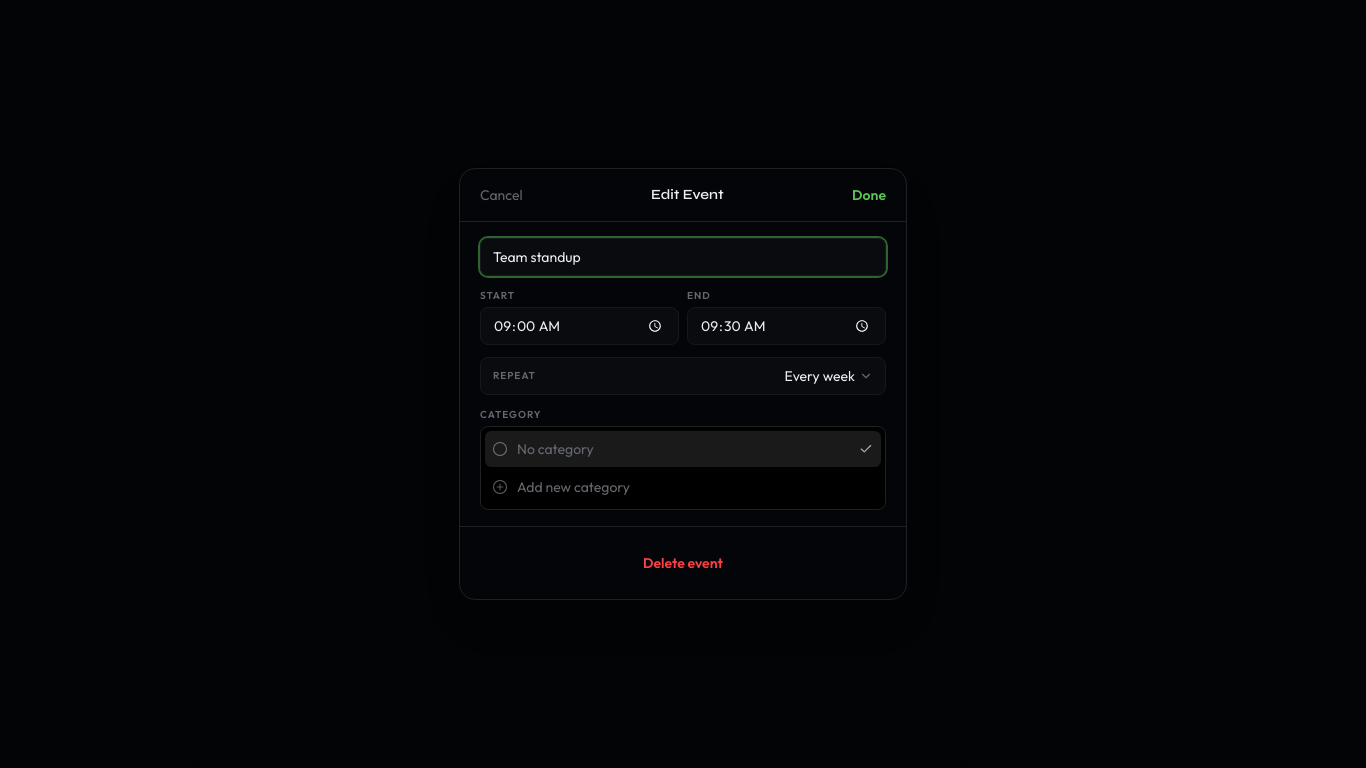
Scenario: EventDetailSheet › shows scope sheet before saving recurring occurrences
Click the button "Done" at [869, 195], box [852,185,886,205]
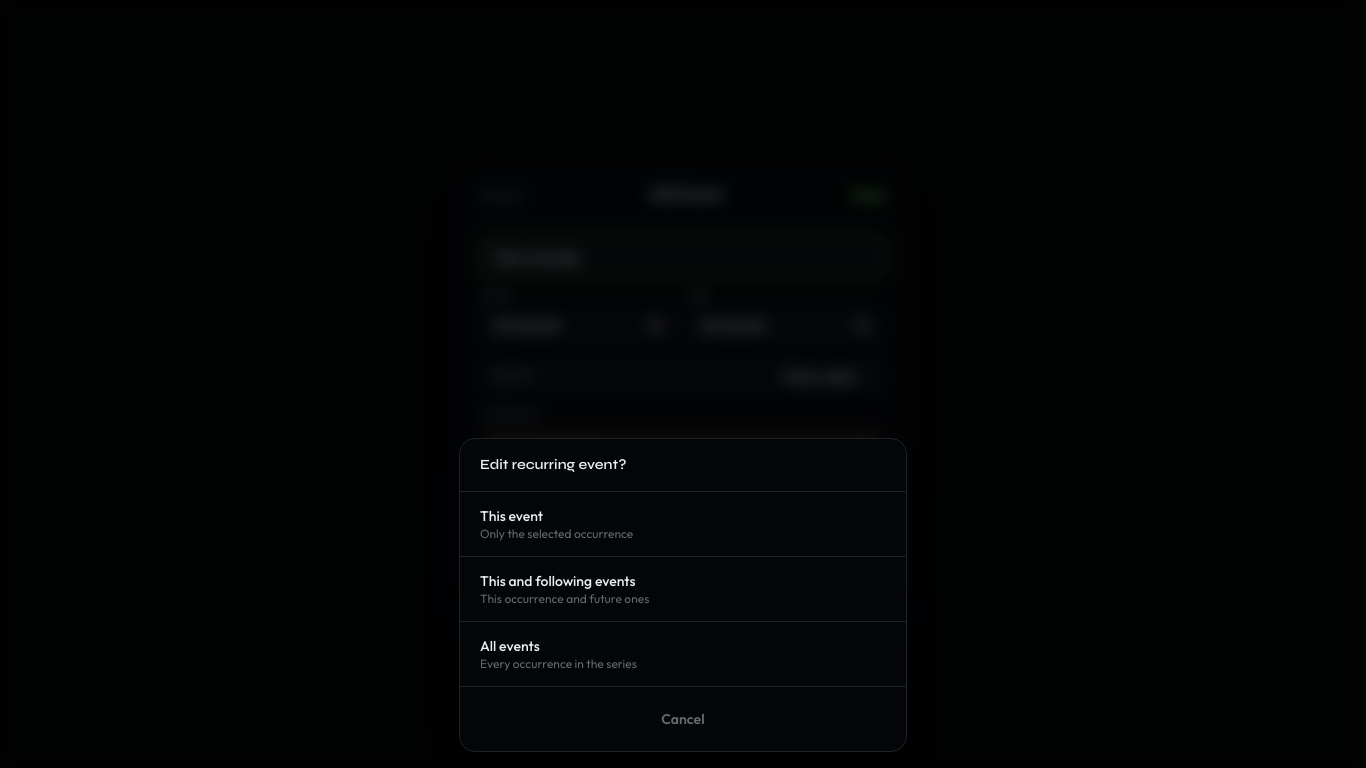
Now the element with test id "scope-sheet-overlay" is shown
Now the text "This event" is shown, box [480,506,543,526]
